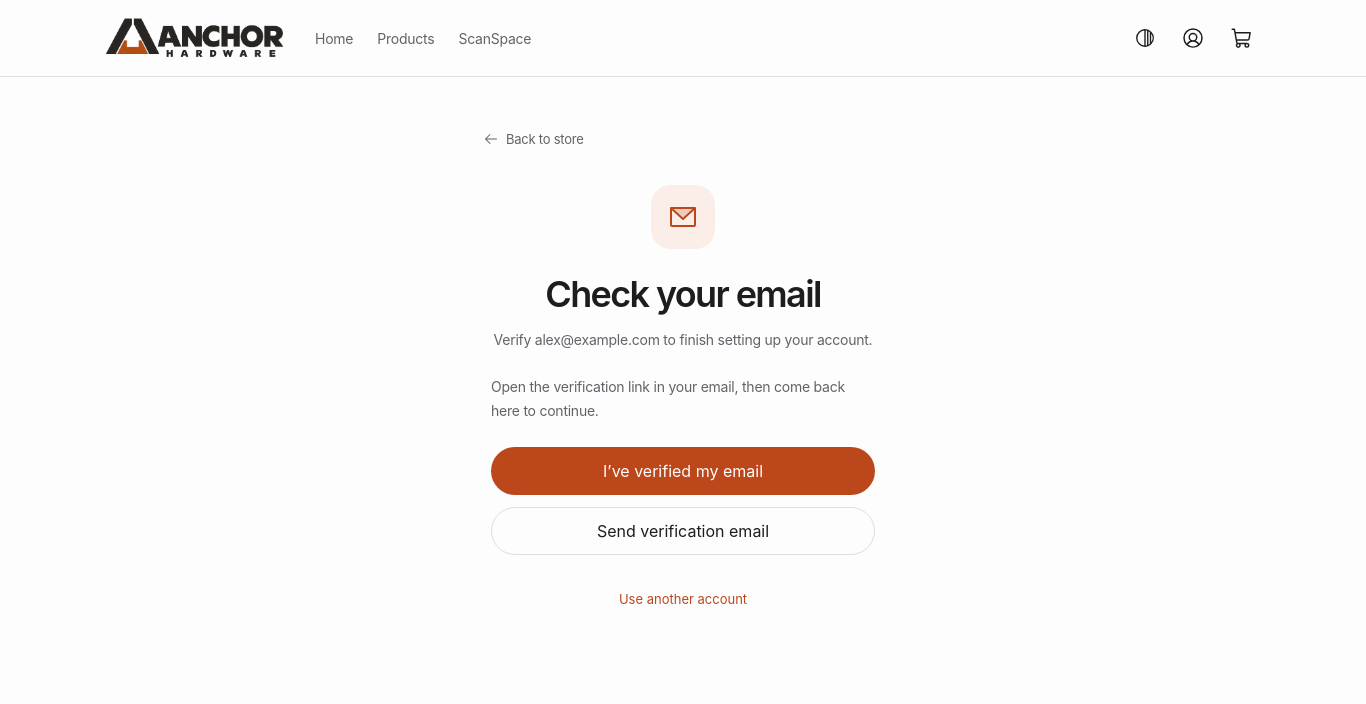
verification can resend an email and refresh the Firebase verification status
The image size is (1366, 704).
Click the button "Send verification email": (683, 531) [491,507,875,555]
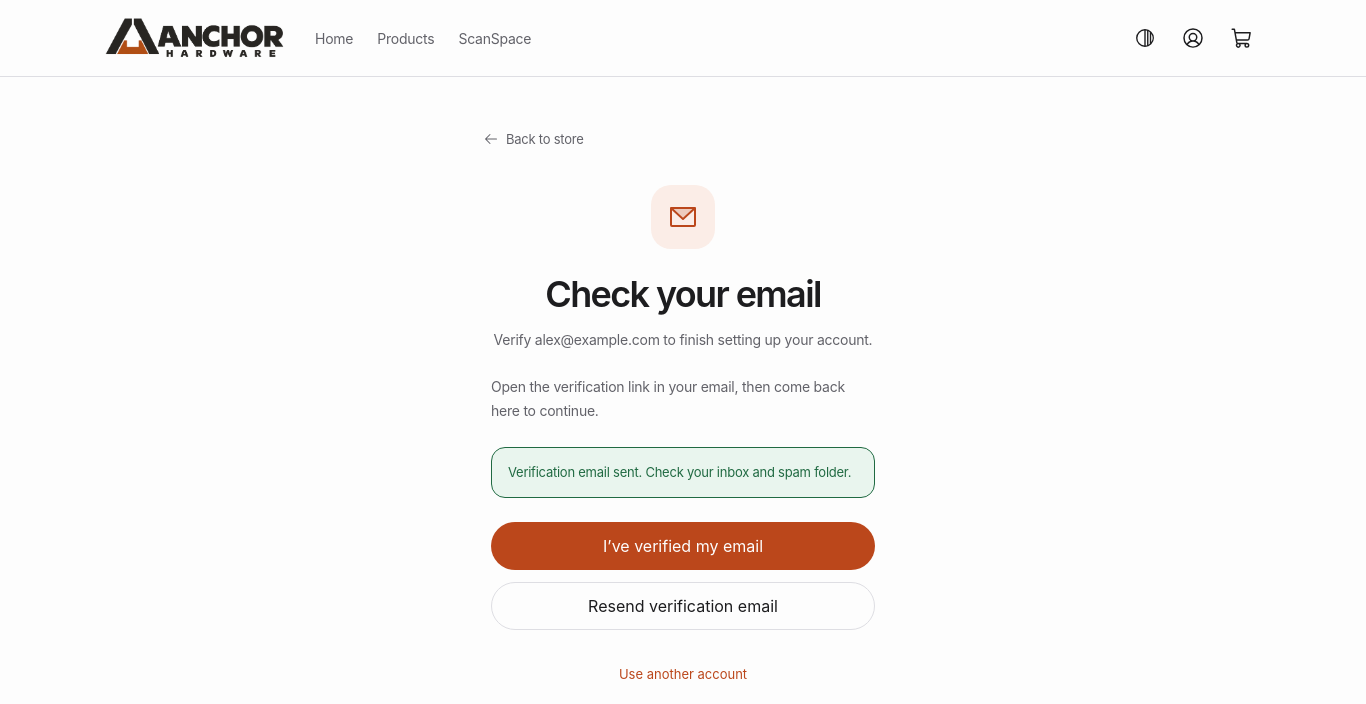
Expected: the message shows "Verification email sent", [508,464,851,480]
Click the button "I’ve verified my email": (683, 546) [491,522,875,570]
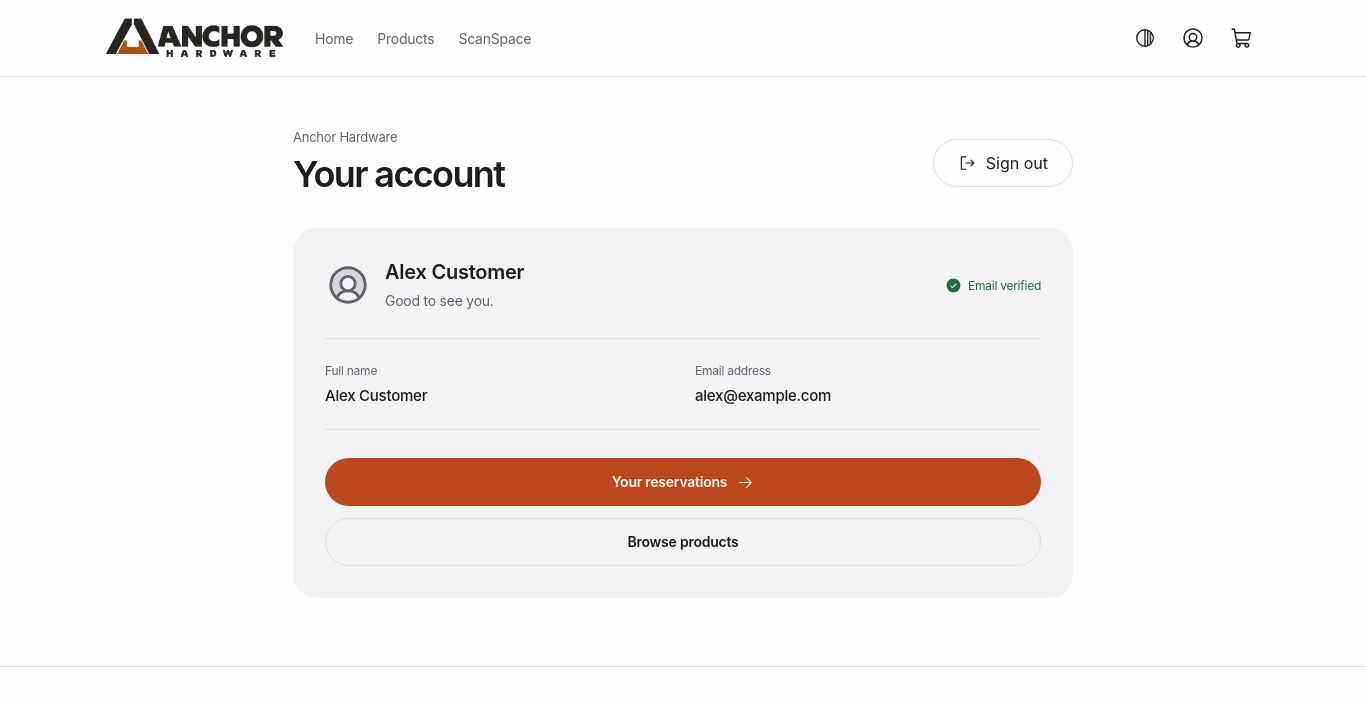
Expected: the heading "Your account" is shown, [293,153,504,196]
Expected: the text "Email verified" is shown, [945,277,1041,294]
